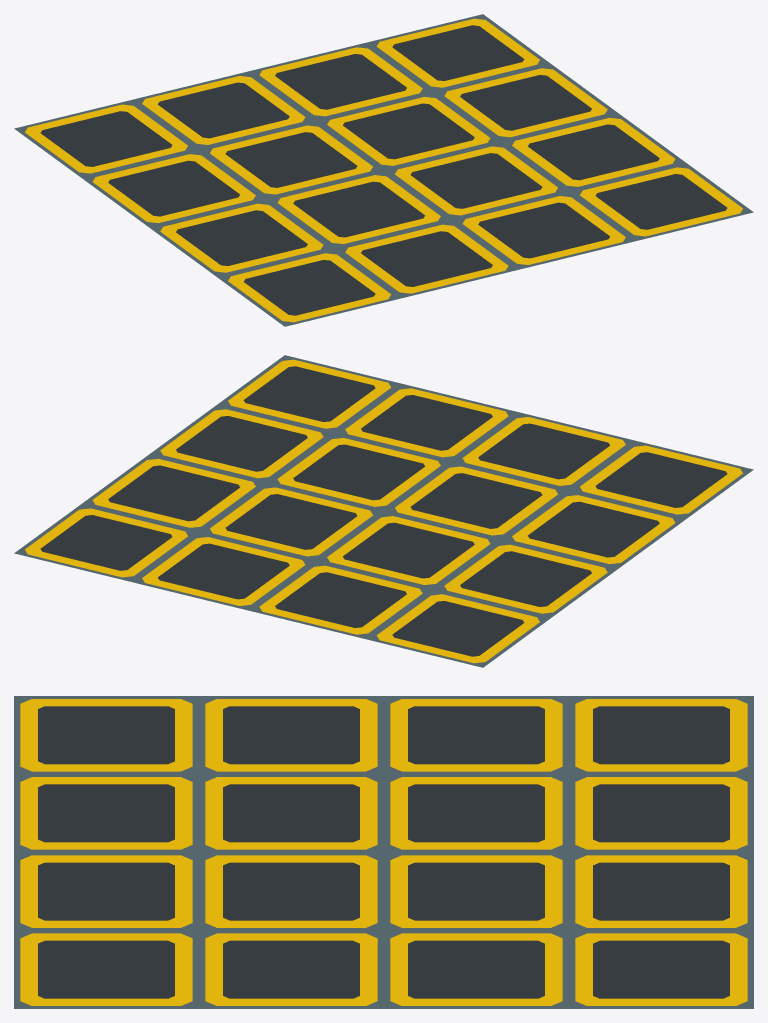
File: Floor_type_C_006.glb
The picture shows the model from 3 angles, top to bottom: view 1: azimuth 30°, elevation 25°; view 2: azimuth 150°, elevation 25°; view 3: azimuth 270°, elevation 25°; orthographic projection. The views are drawn at different scales.
Visible parts, largest first — view 1: Floor_type_C_006; view 2: Floor_type_C_006; view 3: Floor_type_C_006.
Boxes of the visible parts, x1,y1,x2,y2 form: Floor_type_C_006: [14, 14, 753, 326]; Floor_type_C_006: [14, 355, 753, 667]; Floor_type_C_006: [14, 696, 753, 1008].
Size of the model in its own units: 4 by 1.41e-23 by 4.
Materials: 1 (1 with a texture image).
